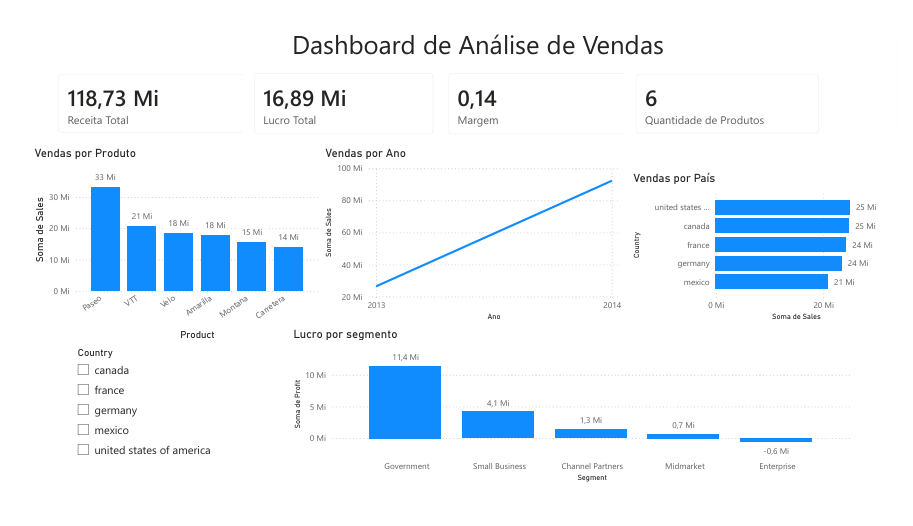

What the dashboard file says about the page in this screenshot:
{"tool":"powerbi","page":{"name":"Página 1","canvas":[1280,720],"ordinal":0},"visuals":[{"type":"lineClusteredColumnComboChart","title":"Vendas por Produto","fields":{"Category":["Sheet1.Product"],"Y":["Sum(Sheet1.Sales)"]},"box":[21,189,422,287],"z":0},{"type":"lineChart","title":"Vendas por Ano","fields":{"Category":["Sheet1.Date.Variation.Hierarquia de datas.Ano","Sheet1.Date.Variation.Hierarquia de datas.Trimestre","Sheet1.Date.Variation.Hierarquia de datas.Mês","Sheet1.Date.Variation.Hierarquia de datas.Dia"],"Y":["Sum(Sheet1.Sales)"]},"box":[443,189,439,258],"z":1000},{"type":"slicer","title":"Paíd","fields":{"Values":["Sheet1.Country"]},"box":[76.2,476.2,502.5,187.5],"z":2000},{"type":"cardVisual","fields":{"Data":["Sheet1.Receita Total"]},"box":[44,68,303,119],"z":3000},{"type":"cardVisual","fields":{"Data":["Sheet1.Lucro Total"]},"box":[328,67,294,122],"z":4000},{"type":"cardVisual","fields":{"Data":["Sheet1.Margem"]},"box":[610,67,297,122],"z":5000},{"type":"cardVisual","fields":{"Data":["Sheet1.Quantidade de Produtos","Sheet1.Quantidade de Produtos"]},"box":[882,68,299,120],"z":6000},{"type":"barChart","title":"Vendas por País","fields":{"Category":["Sheet1.Country"],"Y":["Sum(Sheet1.Sales)"]},"box":[890,225,379,222],"z":6001},{"type":"columnChart","title":"Lucro por segmento","fields":{"Category":["Sheet1.Segment"],"Y":["Sum(Sheet1.Profit)"]},"box":[397,452,820,230],"z":6002},{"type":"textbox","box":[100,11,1139,60],"z":6003}]}

Visuals, with their boxes in screenshot pixels (x1, y1, x2, y2), scaled from the page's 1280x720 canvas onto the 913x526 screenshot:
"Vendas por Produto" lineClusteredColumnComboChart: crop(15, 138, 316, 348)
"Vendas por Ano" lineChart: crop(316, 138, 629, 327)
"Paíd" slicer: crop(54, 348, 413, 485)
cardVisual - Sheet1.Receita Total: crop(31, 50, 248, 137)
cardVisual - Sheet1.Lucro Total: crop(234, 49, 444, 138)
cardVisual - Sheet1.Margem: crop(435, 49, 647, 138)
cardVisual - Sheet1.Quantidade de Produtos x Sheet1.Quantidade de Produtos: crop(629, 50, 842, 137)
"Vendas por País" barChart: crop(635, 164, 905, 327)
"Lucro por segmento" columnChart: crop(283, 330, 868, 498)
textbox: crop(71, 8, 884, 52)
